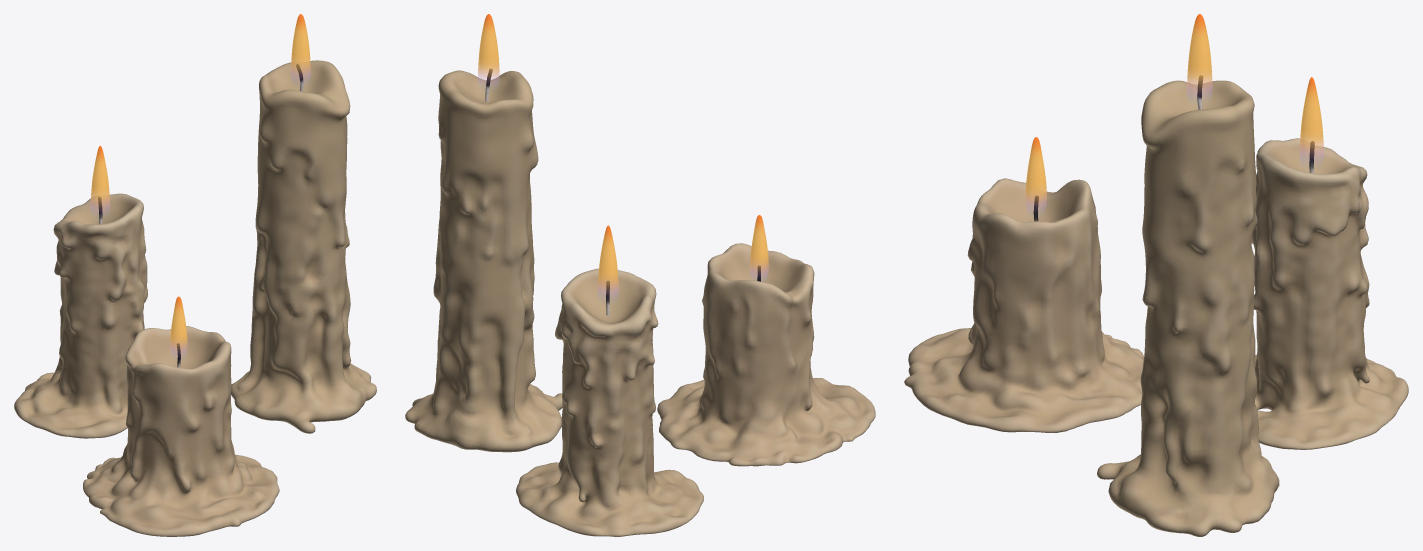
File: prop_candles.glb
The picture shows the model from 3 angles, left to right: view 1: azimuth 30°, elevation 25°; view 2: azimuth 150°, elevation 25°; view 3: azimuth 270°, elevation 25°; orthographic projection. The views are drawn at different scales.
Visible parts, largest first — view 1: candle_1_0, candle_3_4, candle_2_2, Flame_1_8, Flame_2_7, Flame_3_6; view 2: candle_1_0, candle_3_4, candle_2_2, Flame_1_8, Flame_2_7, Flame_3_6; view 3: candle_1_0, candle_3_4, candle_2_2, Flame_1_8, Flame_2_7, Flame_3_6.
Boxes of the visible parts, x1,y1,x2,y2 form: candle_1_0: [231, 60, 376, 433]; candle_3_4: [83, 326, 279, 536]; candle_2_2: [14, 193, 147, 438]; Flame_1_8: [291, 14, 310, 82]; Flame_2_7: [90, 145, 109, 214]; Flame_3_6: [170, 296, 187, 356]; candle_1_0: [405, 70, 562, 452]; candle_3_4: [657, 243, 875, 466]; candle_2_2: [516, 268, 703, 536]; Flame_1_8: [478, 14, 499, 87]; Flame_2_7: [597, 225, 618, 299]; Flame_3_6: [750, 215, 768, 279]; candle_1_0: [1097, 80, 1279, 536]; candle_3_4: [904, 178, 1144, 432]; candle_2_2: [1251, 138, 1408, 449]; Flame_1_8: [1187, 14, 1212, 99]; Flame_2_7: [1299, 77, 1323, 163]; Flame_3_6: [1025, 137, 1046, 213].
Bounding box in the file's own units: 0.2037 × 0.2194 × 0.2083.
Materials: 4 (4 with a texture image).
